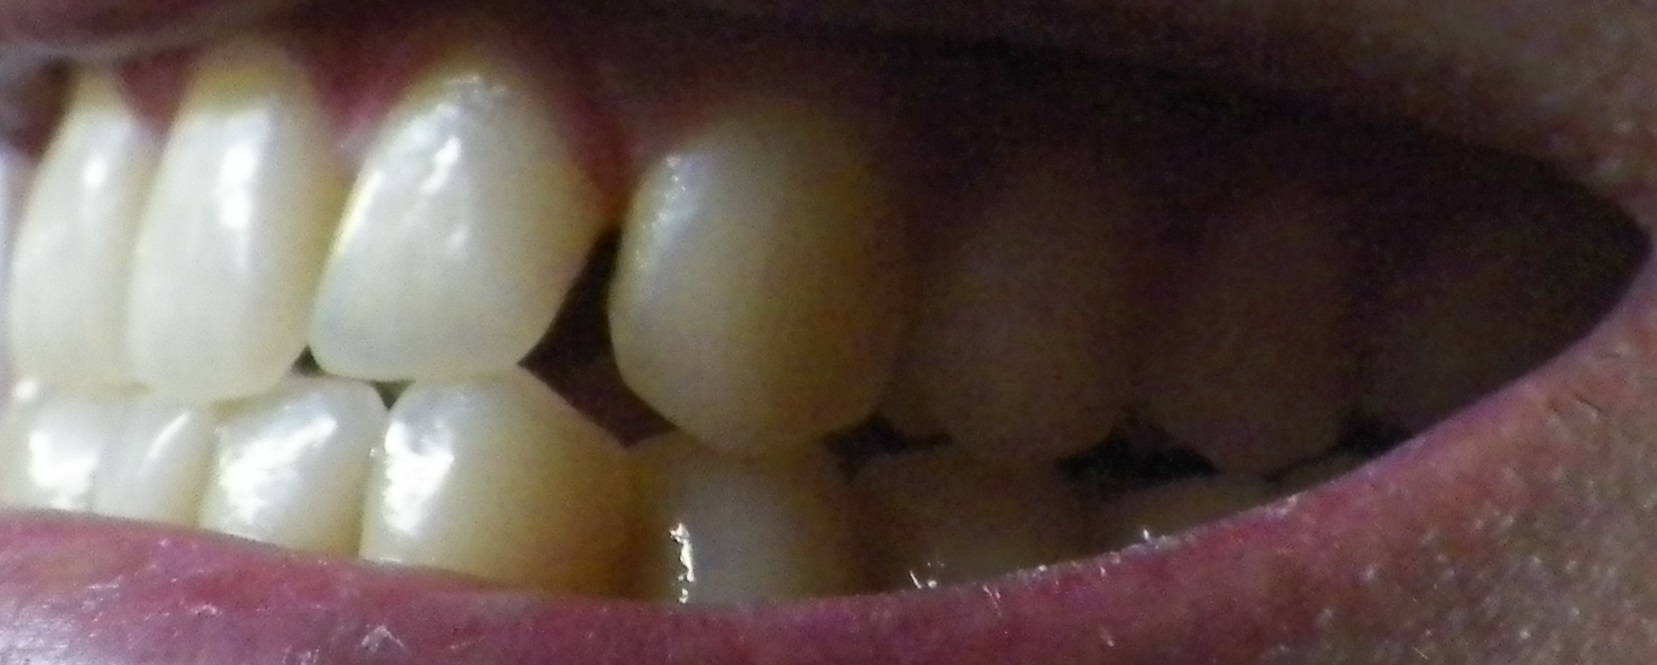boca: (10, 60, 1579, 607)
